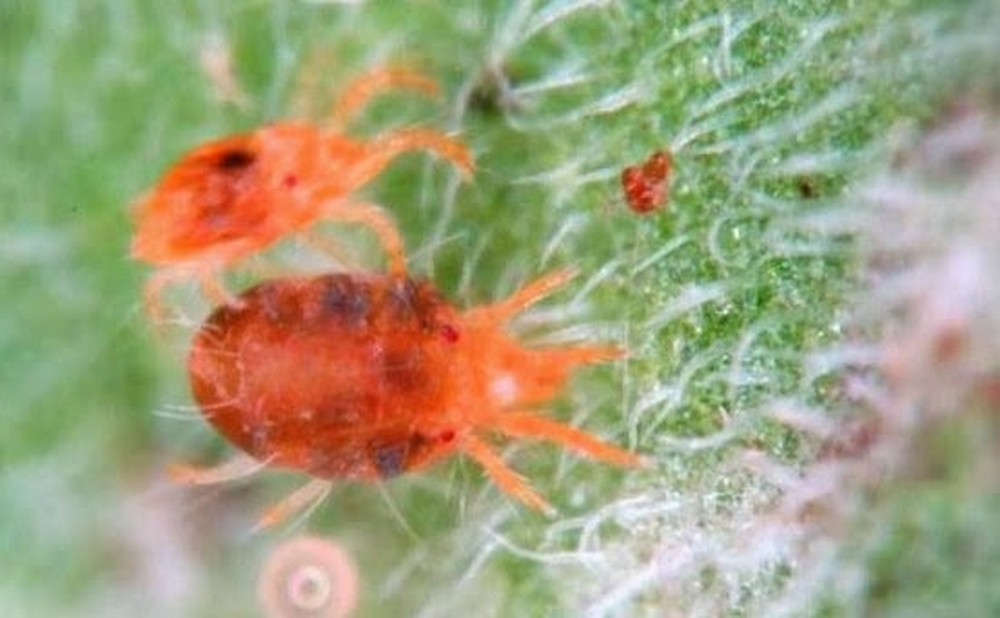Aracnido Rojo: (164, 253, 684, 555), (97, 51, 532, 285)
